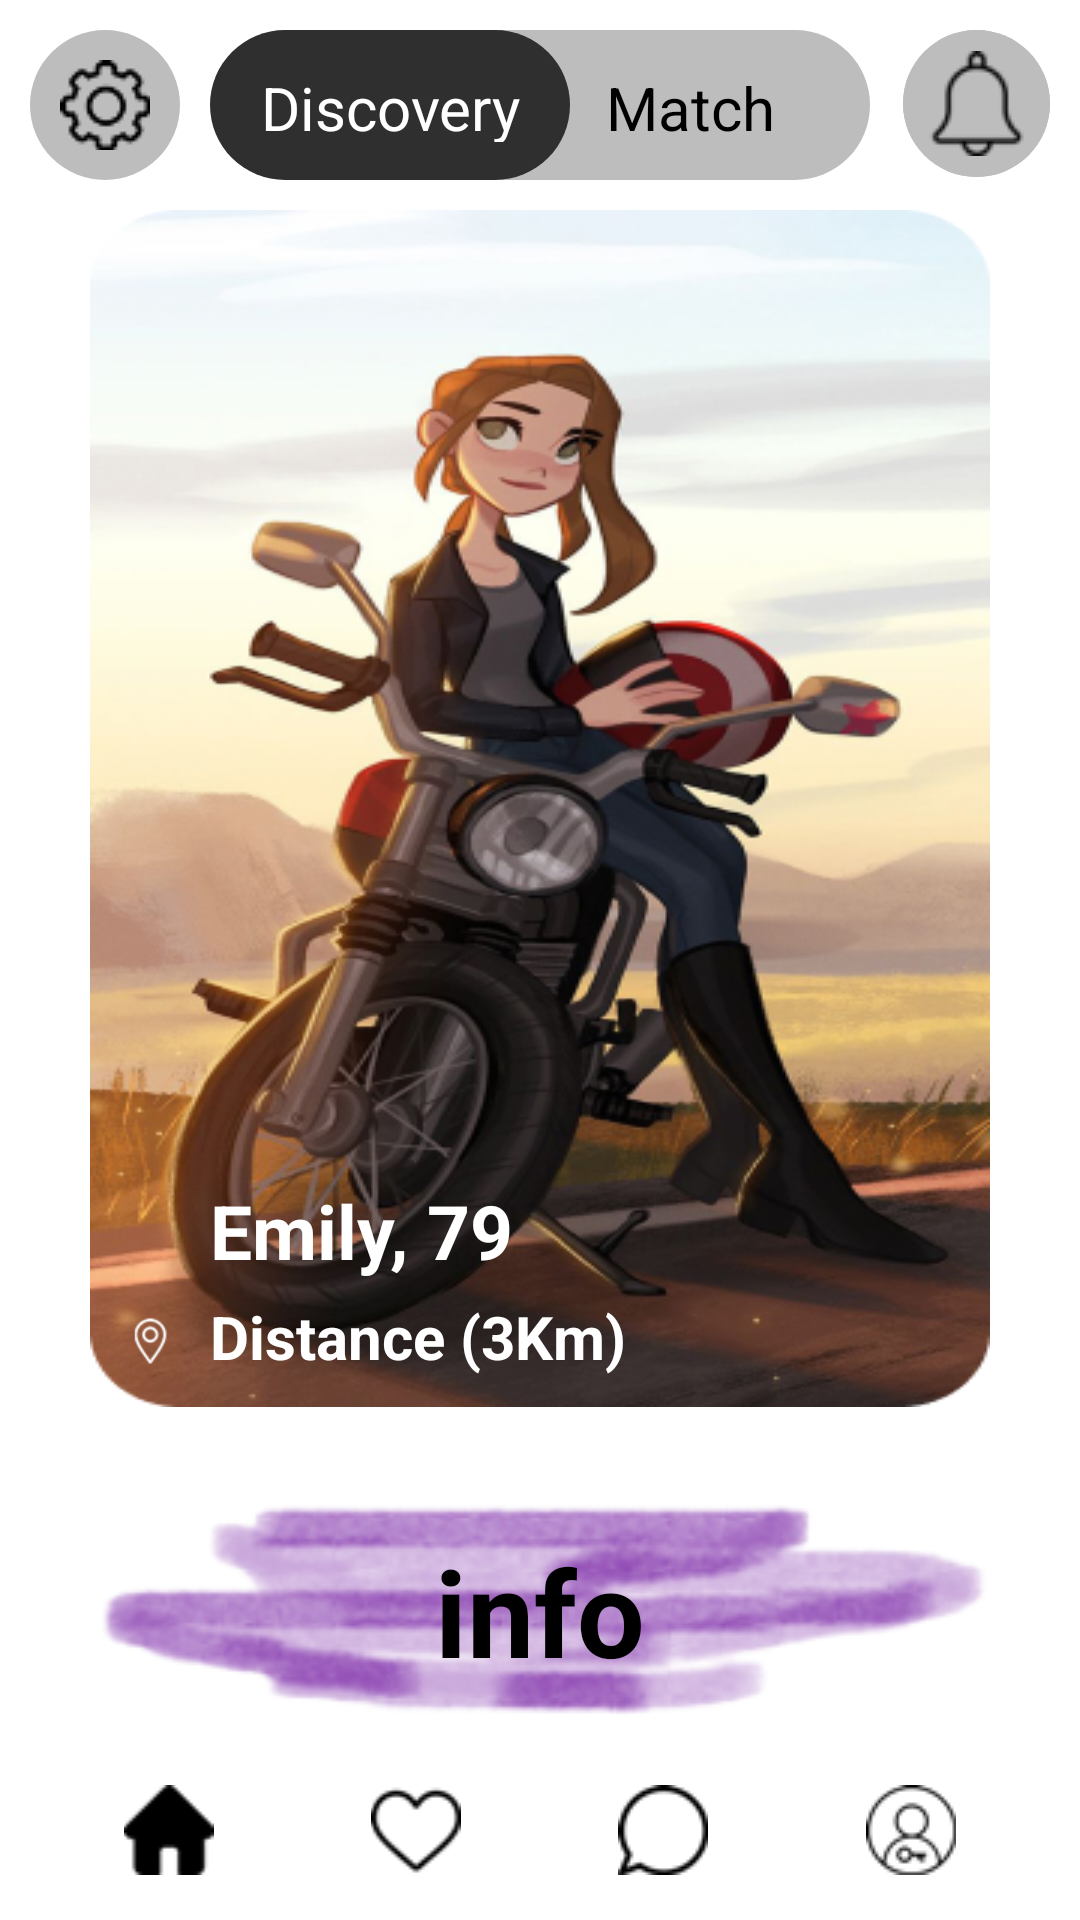

Named icons in this screenshot (1080w x 1920h) and their centers, [x,y]:
admin: [911,1830]
bell: [976,103]
chat: [663,1830]
heart: [416,1830]
home: [169,1830]
location: [150,1341]
settings: [105,105]
